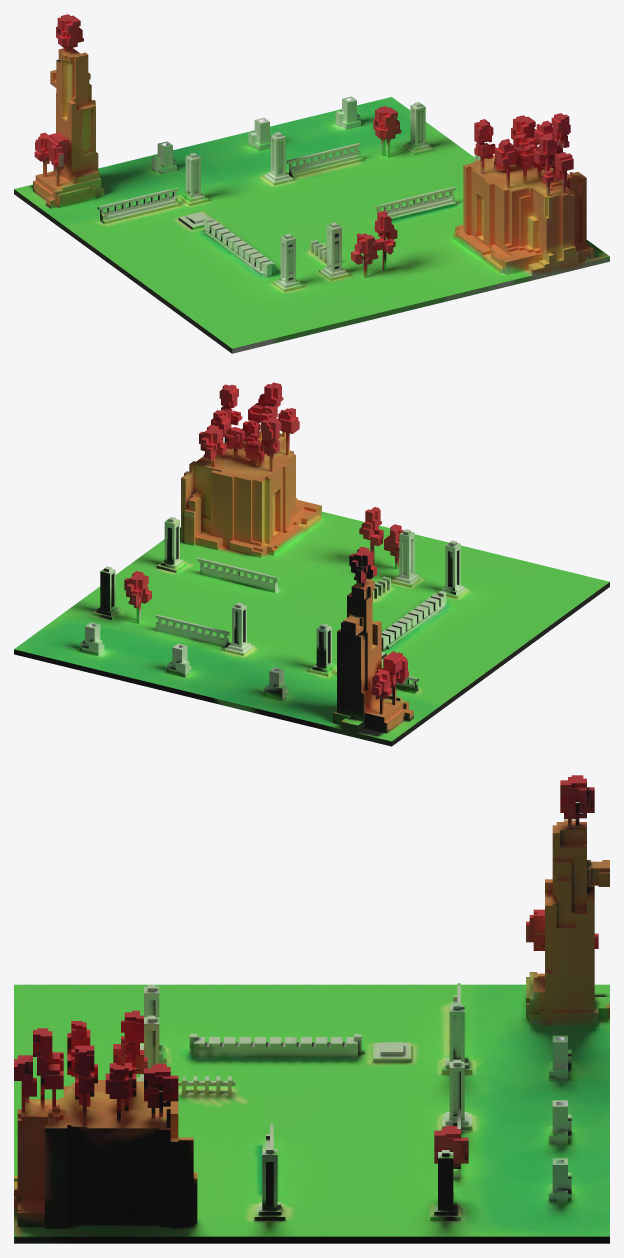
The model's file is user_bottom_enter_com.glb.
3 views of the same model, one above another, from view 1: azimuth 30°, elevation 25°; view 2: azimuth 150°, elevation 25°; view 3: azimuth 270°, elevation 25° (orthographic). The views are drawn at different scales.
Parts seen in each view (by area): view 1: user_bottom_entry; view 2: user_bottom_entry; view 3: user_bottom_entry.
Part boxes in pixels (<box>): user_bottom_entry: <box>14,14,609,353</box>; user_bottom_entry: <box>14,382,609,746</box>; user_bottom_entry: <box>14,775,609,1243</box>.
Size of the model in its own units: 156 by 69 by 156.
1 material, 1 textured.
